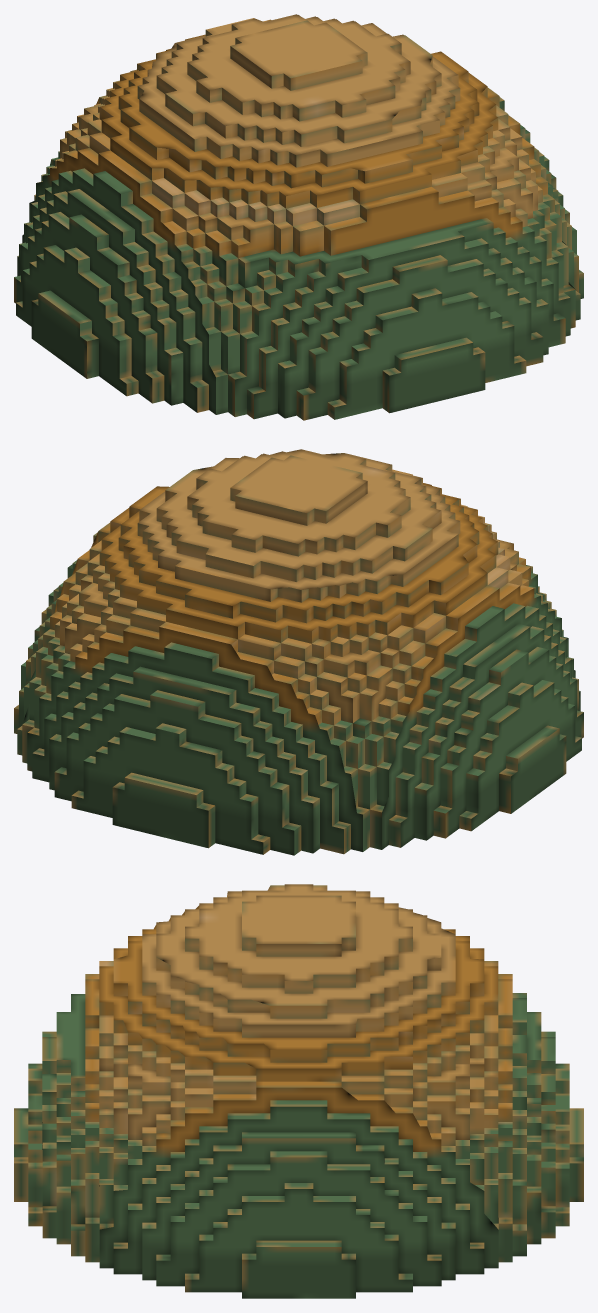
The model's file is mountain.fbx.
3 views of the same model, one above another, from view 1: azimuth 30°, elevation 25°; view 2: azimuth 150°, elevation 25°; view 3: azimuth 270°, elevation 25° (orthographic). The views are drawn at different scales.
Parts seen in each view (by area): view 1: Untitled; view 2: Untitled; view 3: Untitled.
Part boxes in pixels (x1,y1,x2,y2): Untitled: [14, 14, 583, 420]; Untitled: [14, 449, 583, 855]; Untitled: [14, 884, 583, 1298].
Size of the model in its own units: 400 by 200 by 400.
